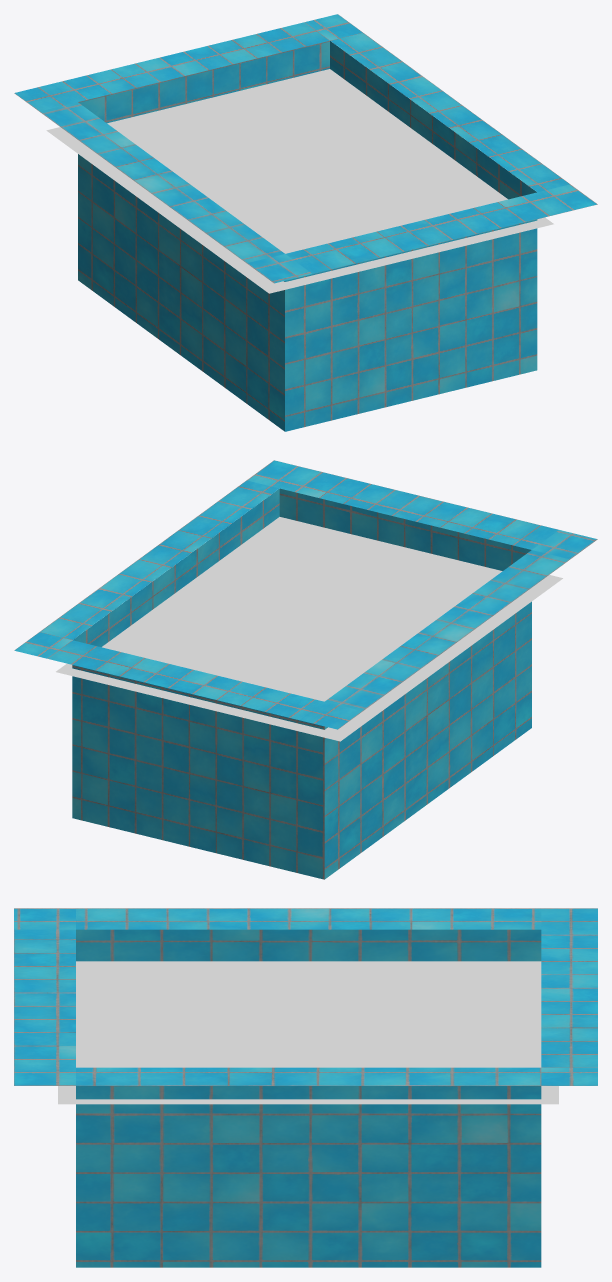
File: pond4.fbx
3 views of the same model, one above another, from view 1: azimuth 30°, elevation 25°; view 2: azimuth 150°, elevation 25°; view 3: azimuth 270°, elevation 25° (orthographic). The views are drawn at different scales.
Parts seen in each view (by area): view 1: W_box.001, Water, W_Side; view 2: W_box.001, Water, W_Side; view 3: W_box.001, Water, W_Side.
Boxes of the visible parts, <box> form: W_box.001: <box>78,40,537,431</box>; Water: <box>46,69,553,293</box>; W_Side: <box>14,14,597,283</box>; W_box.001: <box>72,488,531,879</box>; Water: <box>56,517,562,741</box>; W_Side: <box>14,460,597,729</box>; W_box.001: <box>76,929,541,1267</box>; Water: <box>58,961,558,1104</box>; W_Side: <box>14,908,597,1085</box>.
Size of the model in its own units: 350 by 184 by 487.
